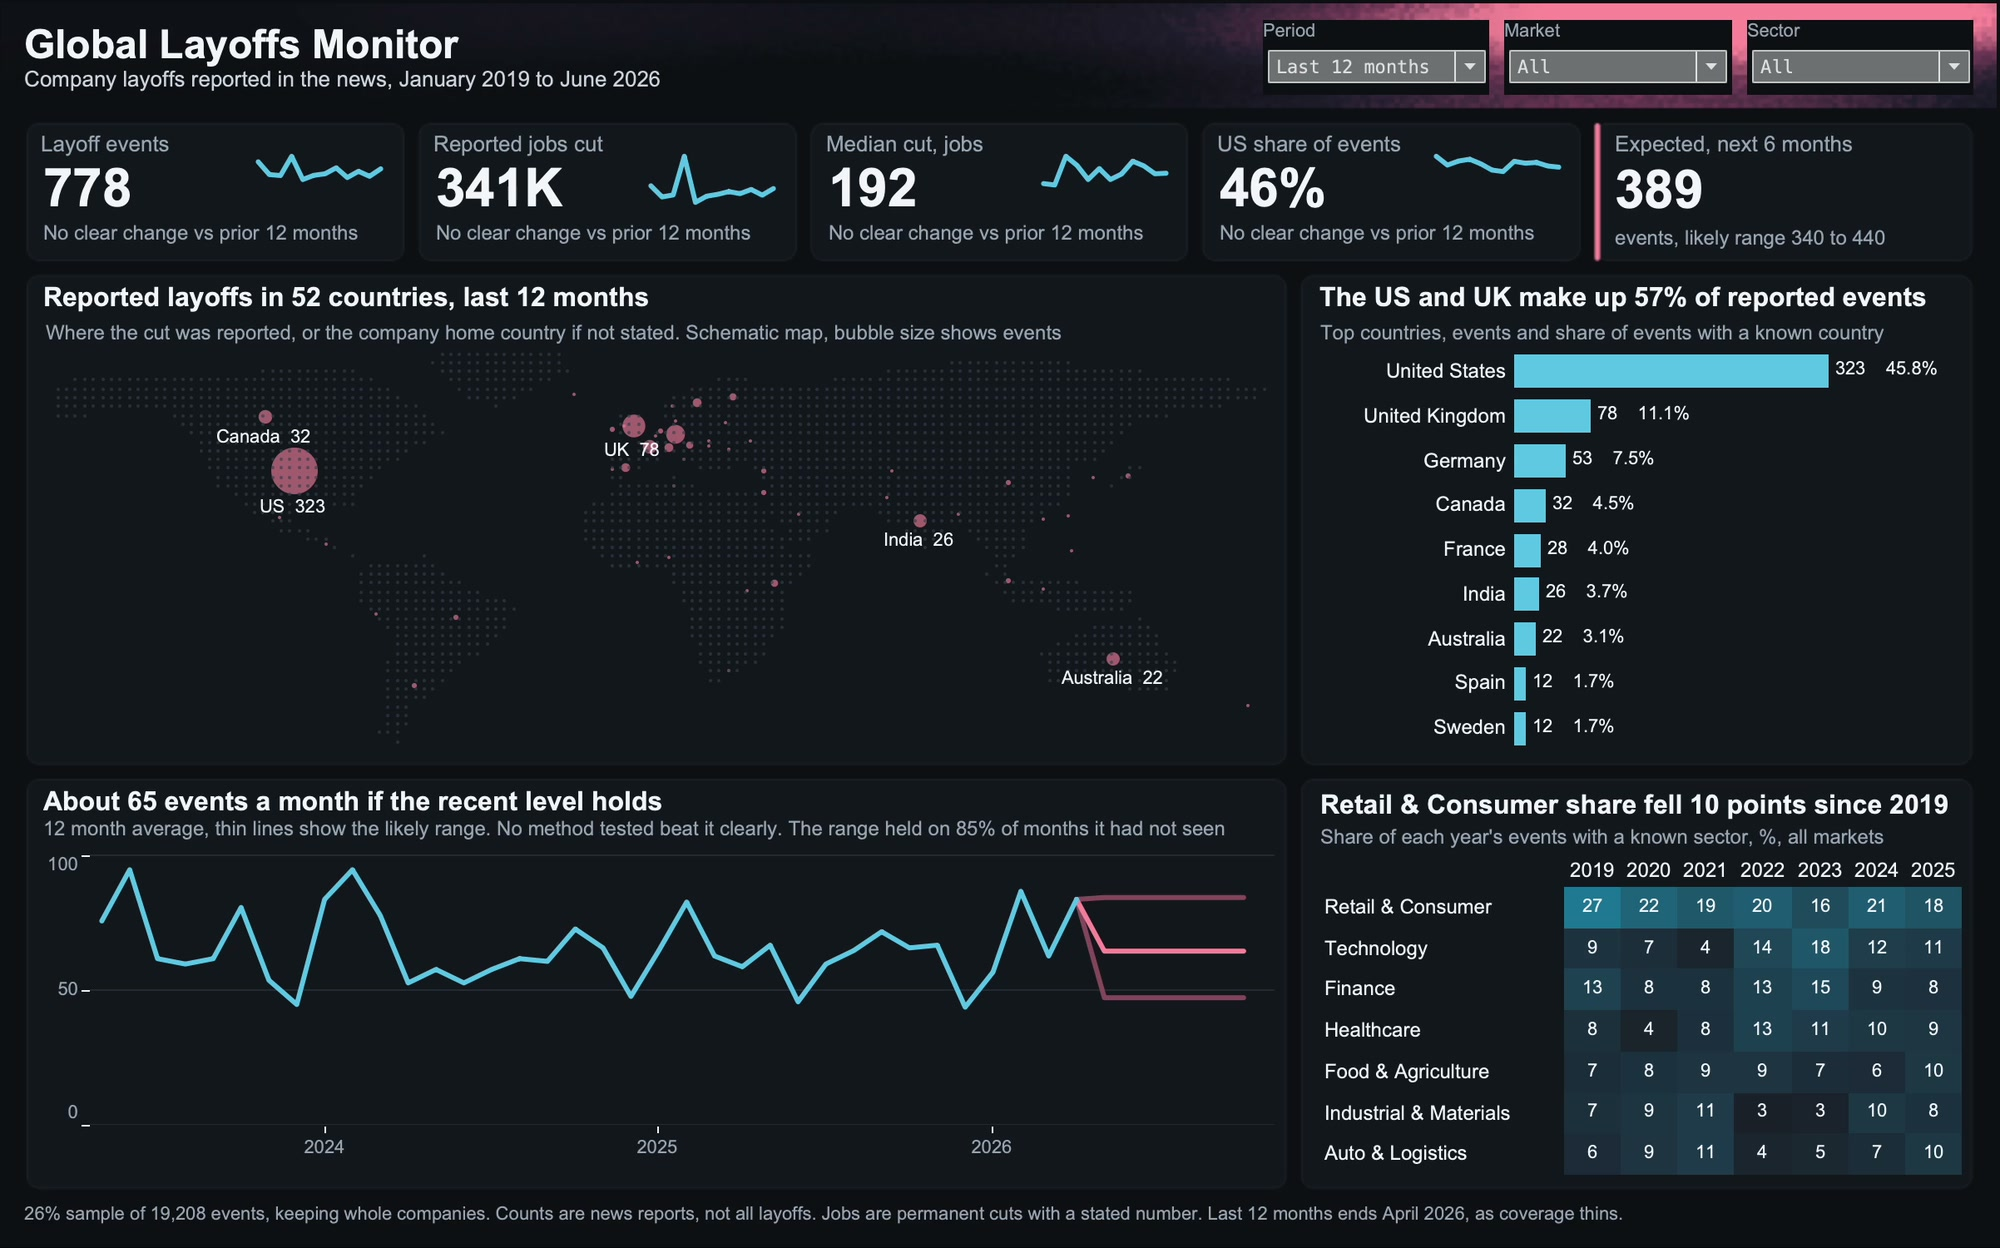

This screenshot's page, from the dashboard's own definition file:
{"tool":"tableau","page":{"name":"Global Layoffs Monitor","canvas":[1200,742],"ordinal":0},"visuals":[{"type":"image","param":"Image/dashboard_bg.png","box":[0,0,1200,742]},{"type":"text","box":[10.5,7.5,675,51]},{"type":"parameter","param":"[Parameters].[Parameter 1]","box":[757.5,10.5,136.5,45]},{"type":"parameter","param":"[Parameters].[Parameter 2]","box":[903,10.5,136.5,45]},{"type":"parameter","param":"[Parameters].[Parameter 3]","box":[1048.5,10.5,136.5,45]},{"type":"text","box":[21,76.4,127.5,18]},{"type":"text","box":[256.8,76.4,127.5,18]},{"type":"text","box":[492.6,76.4,127.5,18]},{"type":"text","box":[728.4,76.4,127.5,18]},{"type":"text","box":[967.2,76.4,180,18]},{"type":"worksheet","title":"L Events","mark":"Line","rows":["Calculation_4016"],"cols":["q_index"],"box":[147.3,88.4,87,42]},{"type":"worksheet","title":"L Jobs","mark":"Line","rows":["Calculation_4017"],"cols":["q_index"],"box":[383.1,88.4,87,42]},{"type":"worksheet","title":"L Median","mark":"Line","rows":["Calculation_4018"],"cols":["q_index"],"box":[618.9,88.4,87,42]},{"type":"worksheet","title":"L US","mark":"Line","rows":["Calculation_4019"],"cols":["q_index"],"box":[854.7,88.4,87,42]},{"type":"worksheet","title":"V Events","mark":"Automatic","box":[21,94.4,127.5,37.5]},{"type":"worksheet","title":"V Jobs","mark":"Automatic","box":[256.8,94.4,127.5,37.5]},{"type":"worksheet","title":"V Median","mark":"Automatic","box":[492.6,94.4,127.5,37.5]},{"type":"worksheet","title":"V US","mark":"Automatic","box":[728.4,94.4,127.5,37.5]},{"type":"text","box":[967.2,94.4,180,37.5]},{"type":"worksheet","title":"S Events","mark":"Automatic","box":[21,131.9,214.8,19.5]},{"type":"worksheet","title":"S Jobs","mark":"Automatic","box":[256.8,131.9,214.8,19.5]},{"type":"worksheet","title":"S Median","mark":"Automatic","box":[492.6,131.9,214.8,19.5]},{"type":"worksheet","title":"S US","mark":"Automatic","box":[728.4,131.9,214.8,19.5]},{"type":"text","box":[967.2,131.9,210,19.5]},{"type":"worksheet","title":"T Map","mark":"Automatic","box":[21,167.9,742.5,22.5]},{"type":"worksheet","title":"T Countries","mark":"Automatic","box":[787.5,167.9,388.5,22.5]},{"type":"text","box":[24,188.9,739.5,18]},{"type":"text","box":[790.5,188.9,385.5,18]},{"type":"worksheet","title":"Map","mark":"Circle","rows":["my"],"cols":["mx"],"box":[22.5,208.4,742.5,241.3]},{"type":"worksheet","title":"Countries","mark":"Bar","rows":["country"],"cols":["Calculation_4020"],"box":[789,208.4,388.5,241.3]},{"type":"worksheet","title":"T Forecast","mark":"Automatic","box":[21,470.7,742.5,22.5]},{"type":"text","box":[790.5,470.7,385.5,22.5]},{"type":"worksheet","title":"S Forecast","mark":"Automatic","box":[21,490.2,742.5,21]},{"type":"text","box":[790.5,491.7,385.5,18]},{"type":"worksheet","title":"Forecast","mark":"Line","rows":["Calculation_4030"],"cols":["xmonth"],"box":[22.5,511.2,742.5,193.4]},{"type":"worksheet","title":"Sector Heat","mark":"Square","rows":["sector"],"cols":["year_label"],"box":[789,511.2,388.5,193.4]},{"type":"text","box":[10.5,716.5,1179,22.5]}]}

Visuals, with their boxes in screenshot pixels (x1, y1, x2, y2), scaled from the page's 1200x742 canvas onto the 2000x1248 screenshot:
image: Rect(0, 0, 1999, 1247)
text: Rect(18, 13, 1142, 98)
parameter: Rect(1262, 18, 1490, 93)
parameter: Rect(1505, 18, 1732, 93)
parameter: Rect(1748, 18, 1975, 93)
text: Rect(35, 129, 248, 159)
text: Rect(428, 129, 640, 159)
text: Rect(821, 129, 1034, 159)
text: Rect(1214, 129, 1426, 159)
text: Rect(1612, 129, 1912, 159)
"L Events" worksheet (Line marks): Rect(246, 149, 391, 219)
"L Jobs" worksheet (Line marks): Rect(639, 149, 784, 219)
"L Median" worksheet (Line marks): Rect(1032, 149, 1176, 219)
"L US" worksheet (Line marks): Rect(1425, 149, 1570, 219)
"V Events" worksheet: Rect(35, 159, 248, 222)
"V Jobs" worksheet: Rect(428, 159, 640, 222)
"V Median" worksheet: Rect(821, 159, 1034, 222)
"V US" worksheet: Rect(1214, 159, 1426, 222)
text: Rect(1612, 159, 1912, 222)
"S Events" worksheet: Rect(35, 222, 393, 255)
"S Jobs" worksheet: Rect(428, 222, 786, 255)
"S Median" worksheet: Rect(821, 222, 1179, 255)
"S US" worksheet: Rect(1214, 222, 1572, 255)
text: Rect(1612, 222, 1962, 255)
"T Map" worksheet: Rect(35, 282, 1272, 320)
"T Countries" worksheet: Rect(1312, 282, 1960, 320)
text: Rect(40, 318, 1272, 348)
text: Rect(1318, 318, 1960, 348)
"Map" worksheet (Circle marks): Rect(38, 351, 1275, 756)
"Countries" worksheet (Bar marks): Rect(1315, 351, 1962, 756)
"T Forecast" worksheet: Rect(35, 792, 1272, 830)
text: Rect(1318, 792, 1960, 830)
"S Forecast" worksheet: Rect(35, 824, 1272, 860)
text: Rect(1318, 827, 1960, 857)
"Forecast" worksheet (Line marks): Rect(38, 860, 1275, 1185)
"Sector Heat" worksheet (Square marks): Rect(1315, 860, 1962, 1185)
text: Rect(18, 1205, 1982, 1243)
